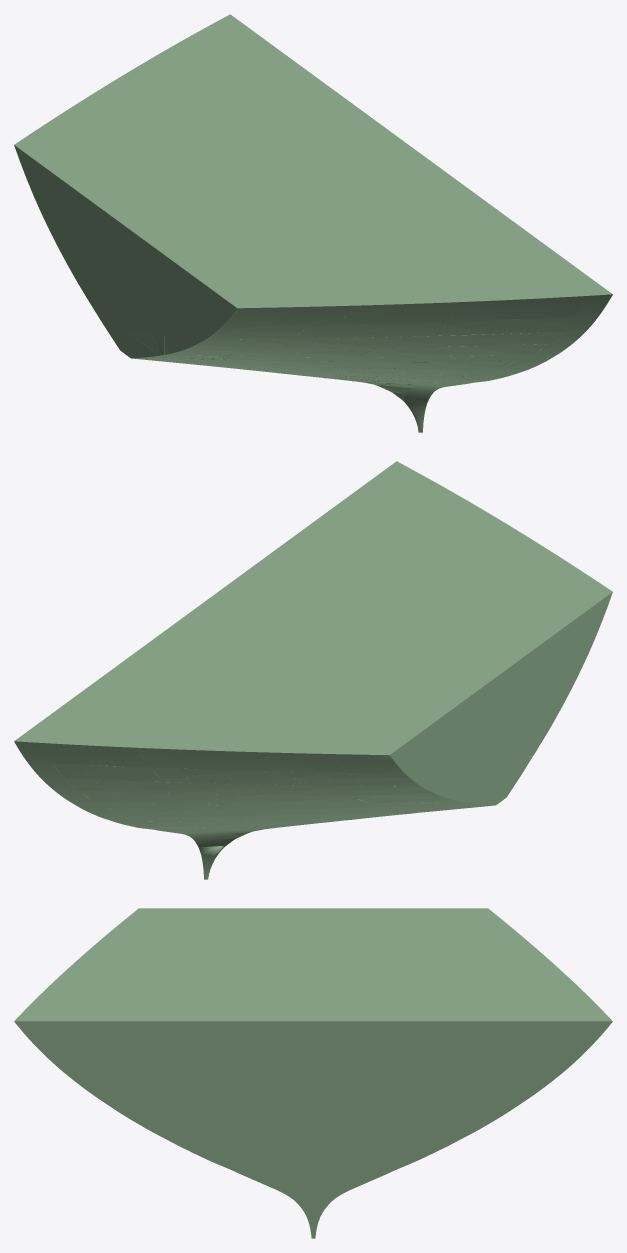
Rendered from AFT_PEAK_TK.glb.
3 renders of one model, top to bottom at view 1: azimuth 30°, elevation 25°; view 2: azimuth 150°, elevation 25°; view 3: azimuth 270°, elevation 25°, orthographic. The views are drawn at different scales.
Parts seen in each view (by area): view 1: PL_TankTopxAPTS_011001-12.5_NVA_1993, PL_TankTopxAPTP_011001-12.5_NVA_1993, PL_TankTopxAPTS_009001-12.5_NVA_1993, PL_TankTopxAPTP_009001-12.5_NVA_1993, PL_TankTopxAPTS_008003-12.5_NVA_1993, PL_TankTopxAPTP_008003-12.5_NVA_1993, PL_TankTopxAPTP_004005-23.5_NVA_1993, PL_TankTopxAPTS_004005-23.5_NVA_1993, PL_TankTopxAPTS_007006-12.5_NVA_1993, PL_TankTopxAPTS_010001-12.5_NVA_1993, PL_TankTopxAPTP_003001-12.5_NVA_1993, PL_TankTopxAPTS_003002-12.5_NVA_1993 (+52 smaller); view 2: PL_TankTopxAPTP_011001-12.5_NVA_1993, PL_TankTopxAPTS_011001-12.5_NVA_1993, PL_TankTopxAPTP_009001-12.5_NVA_1993, PL_TankTopxAPTS_009001-12.5_NVA_1993, PL_TankTopxAPTP_008003-12.5_NVA_1993, PL_TankTopxAPTS_008003-12.5_NVA_1993, PL_TankTopxAPTS_004005-23.5_NVA_1993, PL_TankTopxAPTP_004005-23.5_NVA_1993, PL_TankTopxAPTS_007006-12.5_NVA_1993, PL_TankTopxAPTP_010001-12.5_NVA_1993, PL_TankTopxAPTS_003002-12.5_NVA_1993, PL_TankTopxAPTP_003001-12.5_NVA_1993 (+52 smaller); view 3: PL_TransBHDxBHD13P_004001-11_NVA_1993, PL_TransBHDxBHD13S_004002-11_NVA_1993, PL_SideTransBHDxBHD13P_007001-12.5_NVA_1993, PL_SideTransBHDxBHD13S_007001-12.5_NVA_1993, PL_SideTransBHDxBHD13P_008001-11_NVA_1993, PL_SideTransBHDxBHD13S_008001-11_NVA_1993, PL_TransBHDxBHD13S_005002-11_NVA_1993, PL_TransBHDxBHD13P_005001-11_NVA_1993, PL_TankTopxAPTP_011001-12.5_NVA_1993, PL_TankTopxAPTS_011001-12.5_NVA_1993, PL_TankTopxAPTP_009001-12.5_NVA_1993, PL_TankTopxAPTS_009001-12.5_NVA_1993 (+60 smaller).
Boxes of the visible parts, x1=… form: PL_TankTopxAPTS_011001-12.5_NVA_1993: x1=429, y1=216, x2=588, y2=299; PL_TankTopxAPTP_011001-12.5_NVA_1993: x1=177, y1=22, x2=323, y2=114; PL_TankTopxAPTS_009001-12.5_NVA_1993: x1=275, y1=247, x2=426, y2=306; PL_TankTopxAPTP_009001-12.5_NVA_1993: x1=65, y1=78, x2=194, y2=151; PL_TankTopxAPTS_008003-12.5_NVA_1993: x1=379, y1=228, x2=525, y2=301; PL_TankTopxAPTP_008003-12.5_NVA_1993: x1=140, y1=44, x2=273, y2=126; PL_TankTopxAPTP_004005-23.5_NVA_1993: x1=137, y1=145, x2=275, y2=199; PL_TankTopxAPTS_004005-23.5_NVA_1993: x1=207, y1=197, x2=345, y2=250; PL_TankTopxAPTS_007006-12.5_NVA_1993: x1=301, y1=171, x2=413, y2=229; PL_TankTopxAPTS_010001-12.5_NVA_1993: x1=203, y1=267, x2=323, y2=308; PL_TankTopxAPTP_003001-12.5_NVA_1993: x1=75, y1=175, x2=182, y2=226; PL_TankTopxAPTS_003002-12.5_NVA_1993: x1=126, y1=212, x2=234, y2=263; PL_TankTopxAPTP_011001-12.5_NVA_1993: x1=39, y1=663, x2=197, y2=745; PL_TankTopxAPTS_011001-12.5_NVA_1993: x1=303, y1=469, x2=449, y2=561; PL_TankTopxAPTP_009001-12.5_NVA_1993: x1=200, y1=694, x2=351, y2=753; PL_TankTopxAPTS_009001-12.5_NVA_1993: x1=432, y1=525, x2=561, y2=598; PL_TankTopxAPTP_008003-12.5_NVA_1993: x1=101, y1=675, x2=247, y2=748; PL_TankTopxAPTS_008003-12.5_NVA_1993: x1=353, y1=491, x2=486, y2=573; PL_TankTopxAPTS_004005-23.5_NVA_1993: x1=351, y1=592, x2=489, y2=646; PL_TankTopxAPTP_004005-23.5_NVA_1993: x1=281, y1=643, x2=419, y2=697; PL_TankTopxAPTS_007006-12.5_NVA_1993: x1=276, y1=572, x2=387, y2=630; PL_TankTopxAPTP_010001-12.5_NVA_1993: x1=303, y1=714, x2=422, y2=755; PL_TankTopxAPTS_003002-12.5_NVA_1993: x1=444, y1=622, x2=551, y2=673; PL_TankTopxAPTP_003001-12.5_NVA_1993: x1=392, y1=659, x2=500, y2=710; PL_TransBHDxBHD13P_004001-11_NVA_1993: x1=313, y1=1021, x2=396, y2=1064; PL_TransBHDxBHD13S_004002-11_NVA_1993: x1=230, y1=1021, x2=313, y2=1064; PL_SideTransBHDxBHD13P_007001-12.5_NVA_1993: x1=511, y1=1021, x2=612, y2=1064; PL_SideTransBHDxBHD13S_007001-12.5_NVA_1993: x1=14, y1=1021, x2=115, y2=1064; PL_SideTransBHDxBHD13P_008001-11_NVA_1993: x1=435, y1=1021, x2=510, y2=1064; PL_SideTransBHDxBHD13S_008001-11_NVA_1993: x1=116, y1=1021, x2=191, y2=1064; PL_TransBHDxBHD13S_005002-11_NVA_1993: x1=230, y1=1065, x2=313, y2=1103; PL_TransBHDxBHD13P_005001-11_NVA_1993: x1=313, y1=1065, x2=396, y2=1103; PL_TankTopxAPTP_011001-12.5_NVA_1993: x1=435, y1=994, x2=605, y2=1013; PL_TankTopxAPTS_011001-12.5_NVA_1993: x1=21, y1=994, x2=191, y2=1013; PL_TankTopxAPTP_009001-12.5_NVA_1993: x1=435, y1=935, x2=553, y2=964; PL_TankTopxAPTS_009001-12.5_NVA_1993: x1=73, y1=935, x2=191, y2=964.
Bounding box in the file's own units: 15.85 × 14.2 × 35.5.
